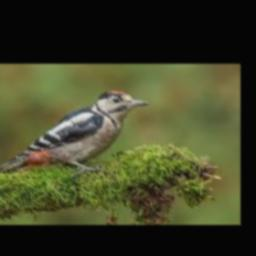Woodpecker: (0, 90, 149, 175)
